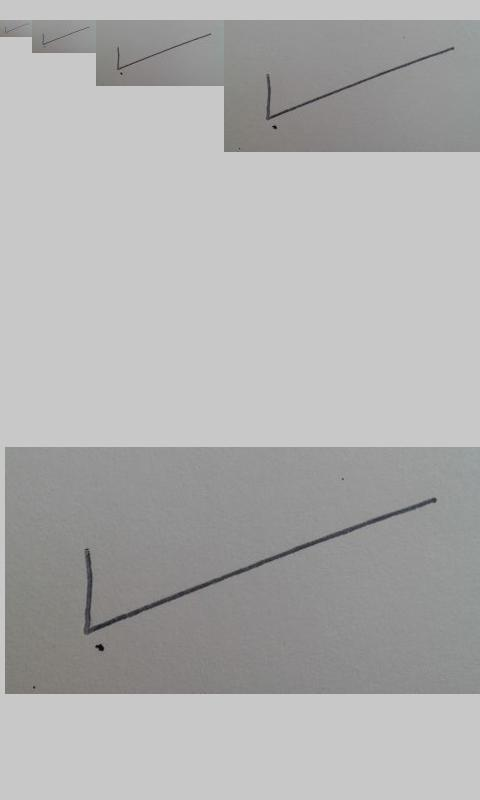check_box: (81, 497, 436, 636), (265, 46, 453, 120), (116, 34, 207, 70), (42, 27, 86, 45), (4, 23, 27, 34)
